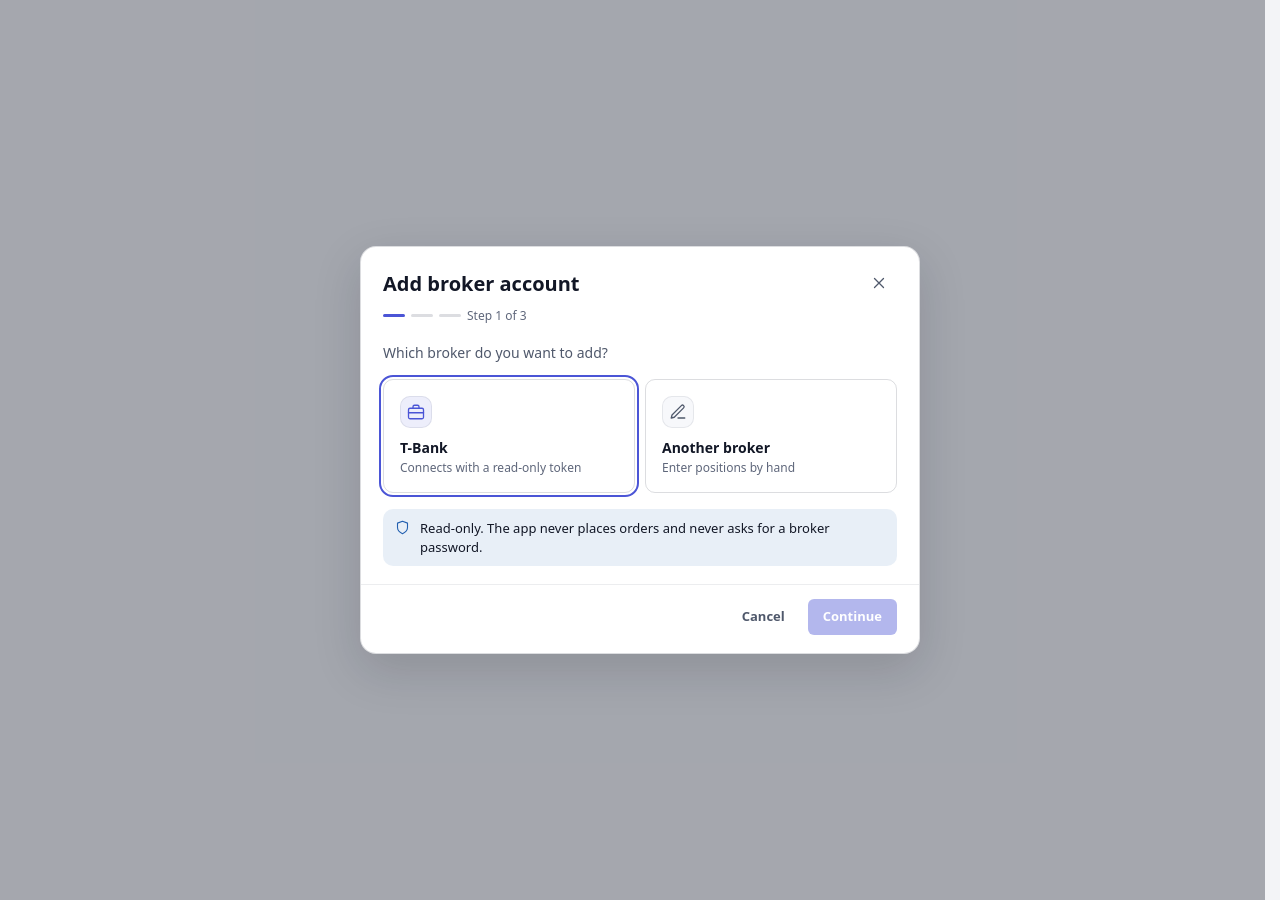
it: BROKER-ADD-FLOW one Add broker account dialog: choose the broker first › BROKER-ADD-FLOW "Another broker" opens the positions editor, and Back keeps what was typed
Click the button "Another broker Enter positions by hand".
click(771, 436)  # box [645,379,897,493]
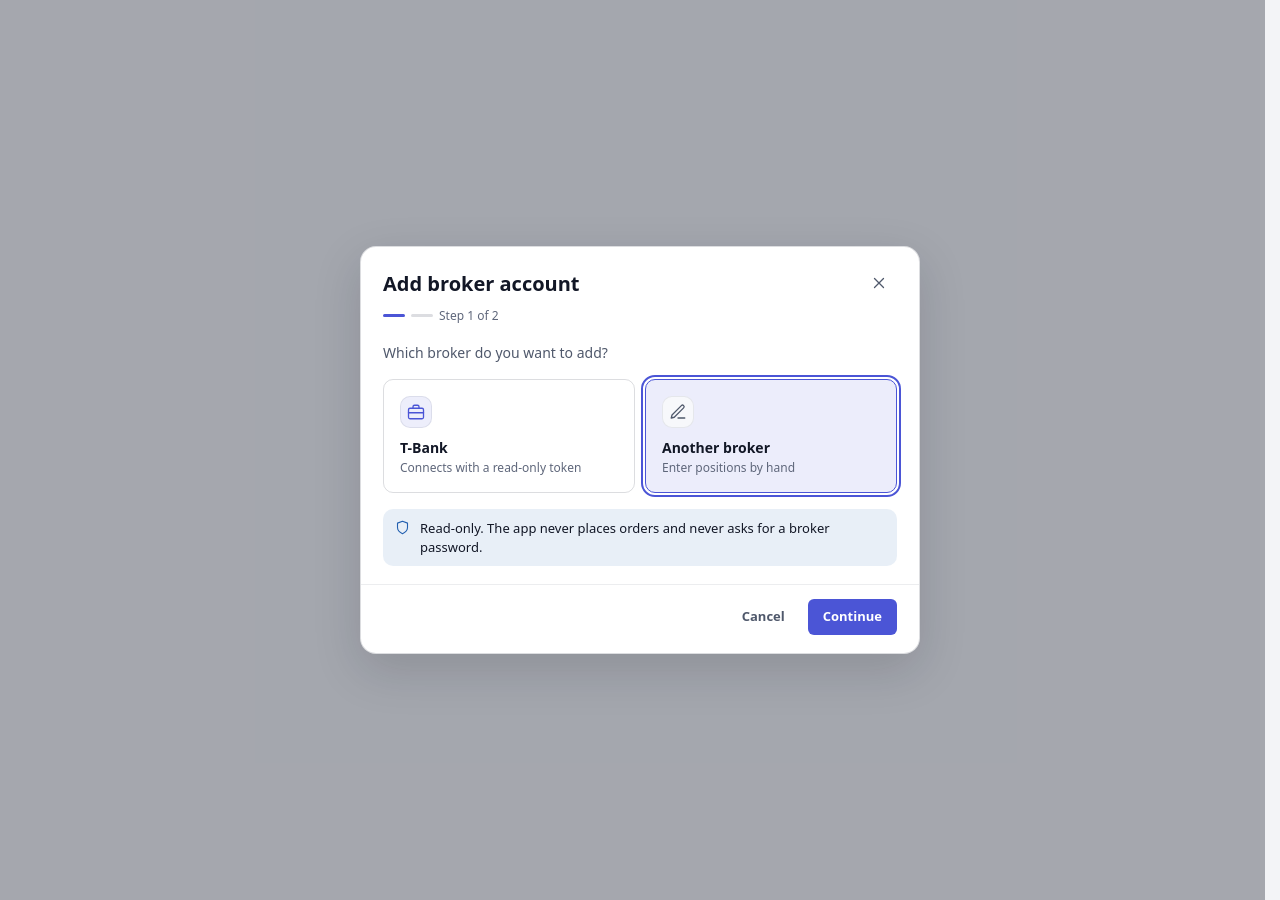
Click the button "Continue".
click(852, 617)  # box [808,599,897,635]
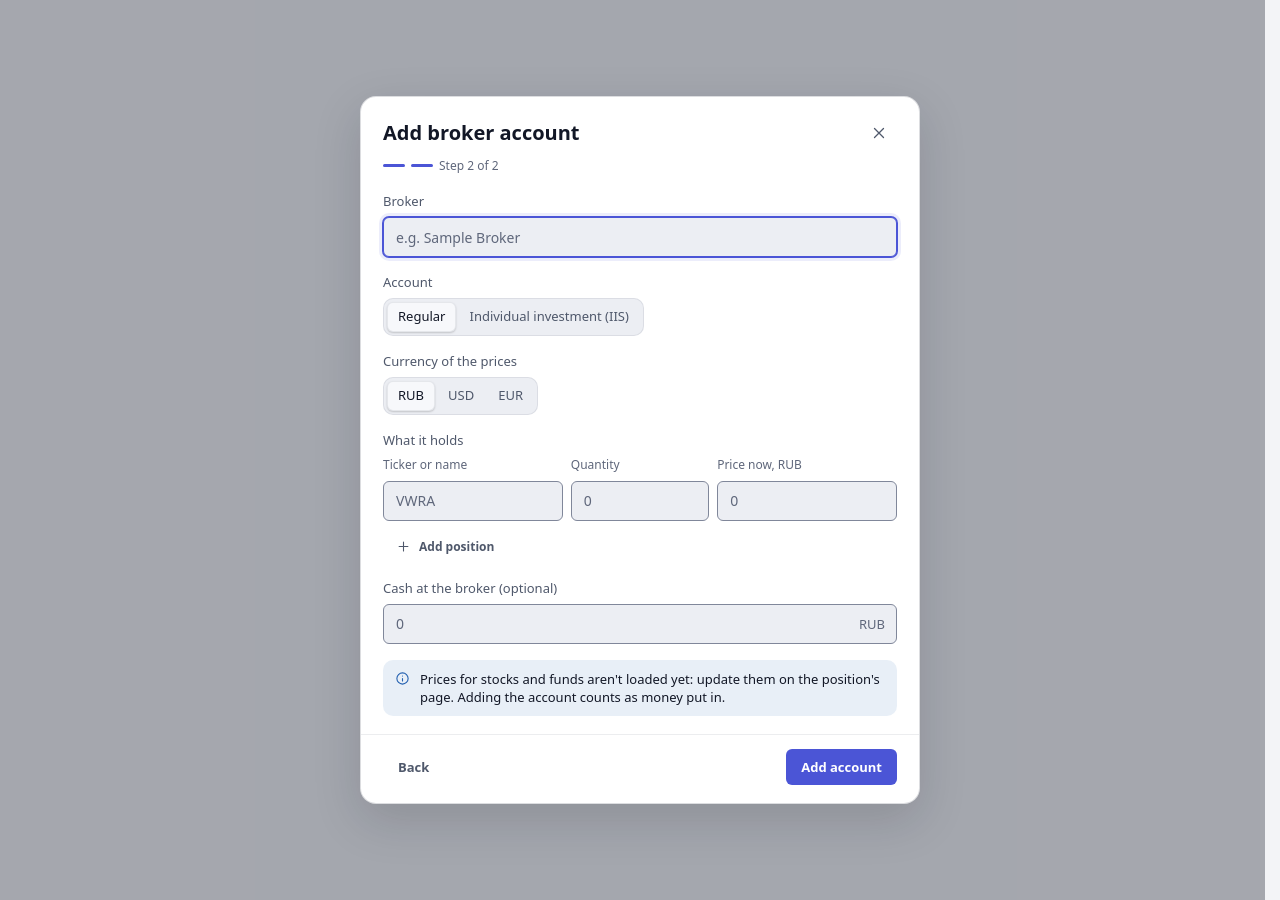
Result: the text "Step 2 of 2" is shown at [439,157,499,174]
Type "Sample Broker" into the field labelled "Broker".
click(640, 237); type("Sample Broker")  # box [383,217,897,257]
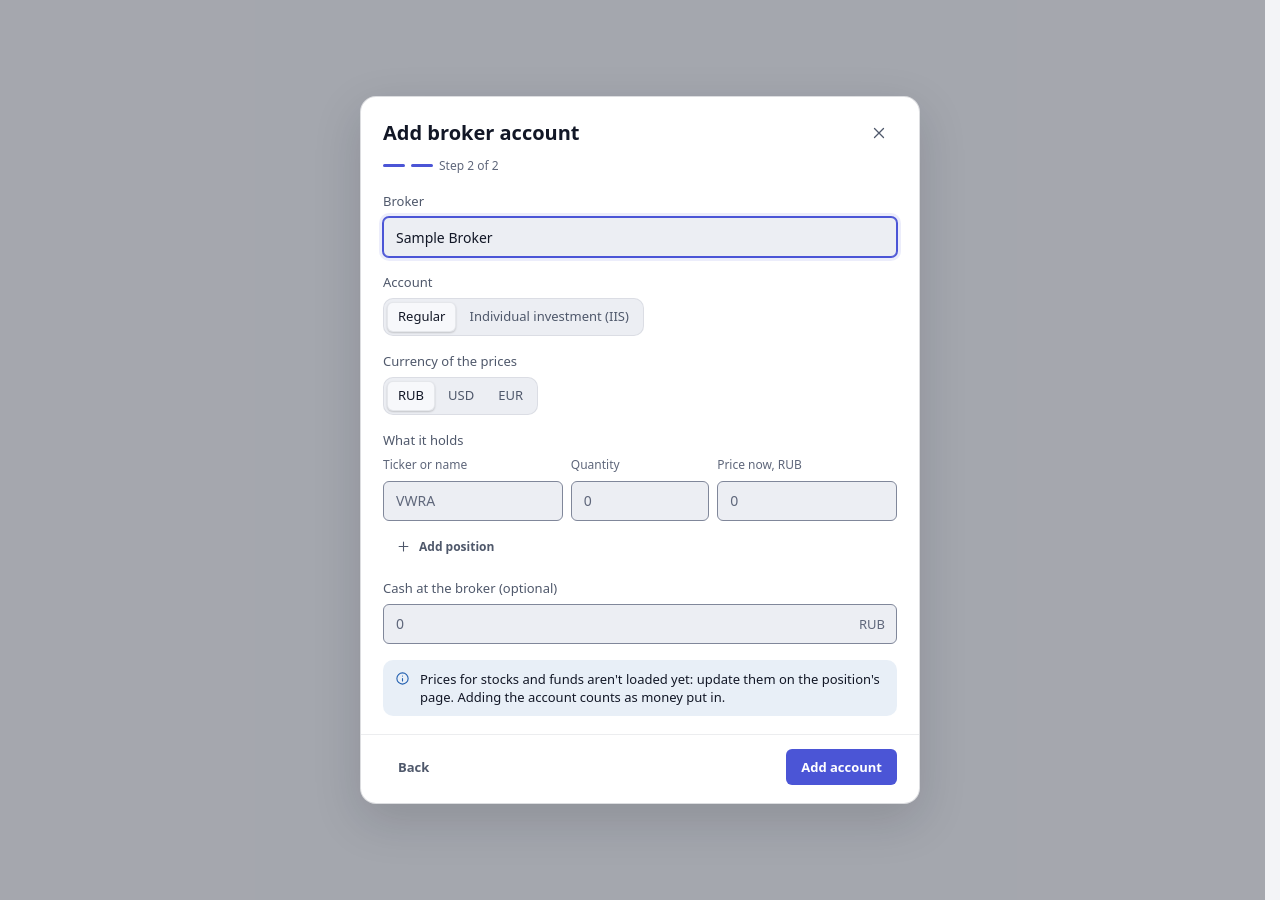
Click the button "Back".
click(414, 767)  # box [383,749,444,785]
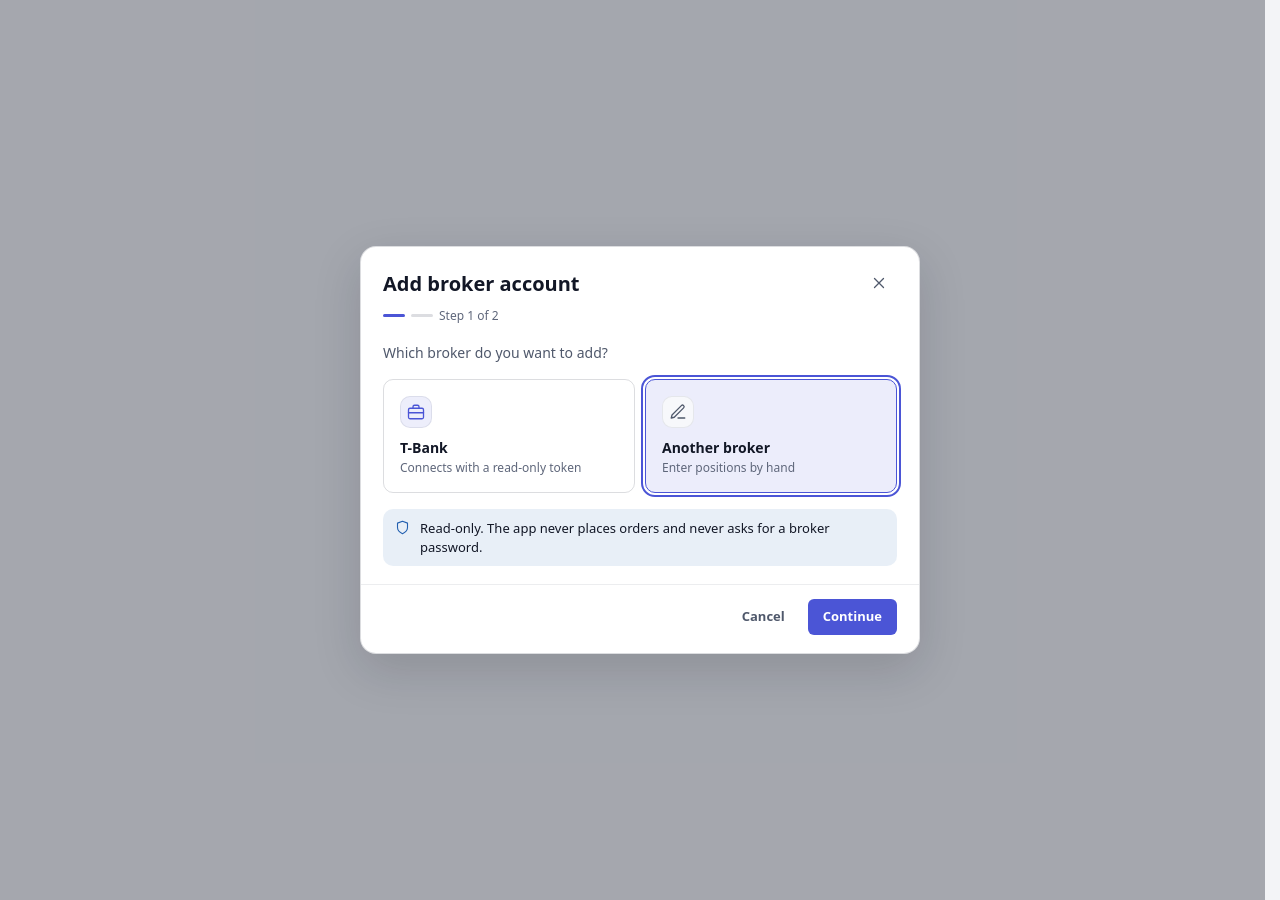
Result: the text "Step 1 of 2" is shown at [439,307,499,325]
Click the button "Continue".
click(852, 617)  # box [808,599,897,635]
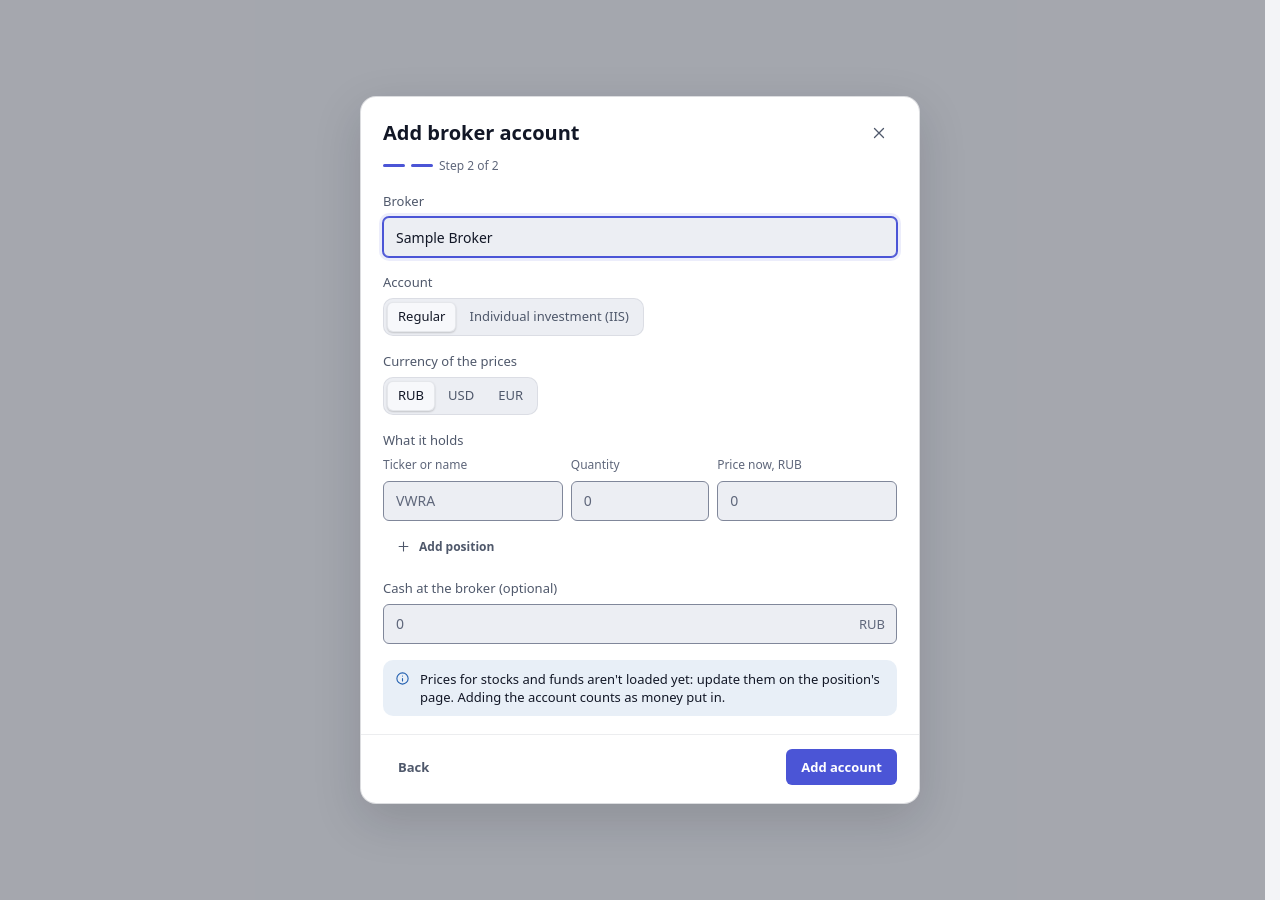
Result: the field labelled "Broker" holds "Sample Broker" at [383,217,897,257]
